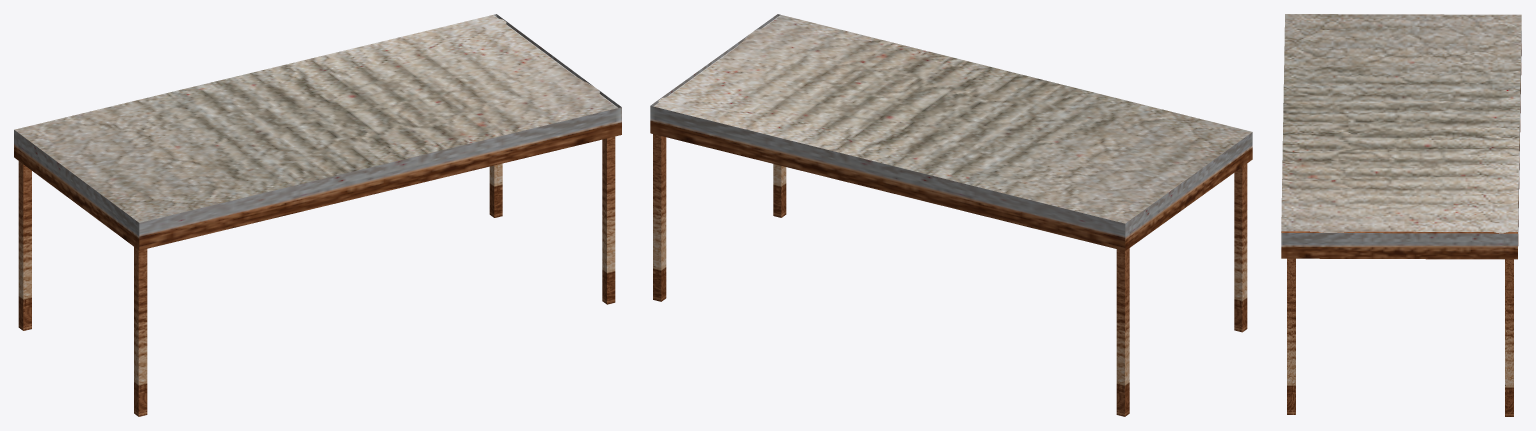
Rendered from bed.fbx.
The picture shows the model from 3 angles, left to right: view 1: azimuth 30°, elevation 25°; view 2: azimuth 150°, elevation 25°; view 3: azimuth 270°, elevation 25°; orthographic projection. The views are drawn at different scales.
Parts seen in each view (by area): view 1: SM_PrisonBed; view 2: SM_PrisonBed; view 3: SM_PrisonBed.
Boxes of the visible parts, <box> form: SM_PrisonBed: <box>14,14,621,416</box>; SM_PrisonBed: <box>650,14,1252,416</box>; SM_PrisonBed: <box>1281,14,1521,416</box>.
Bounding box in the file's own units: 409 × 160 × 189.
1 material, 1 textured.
